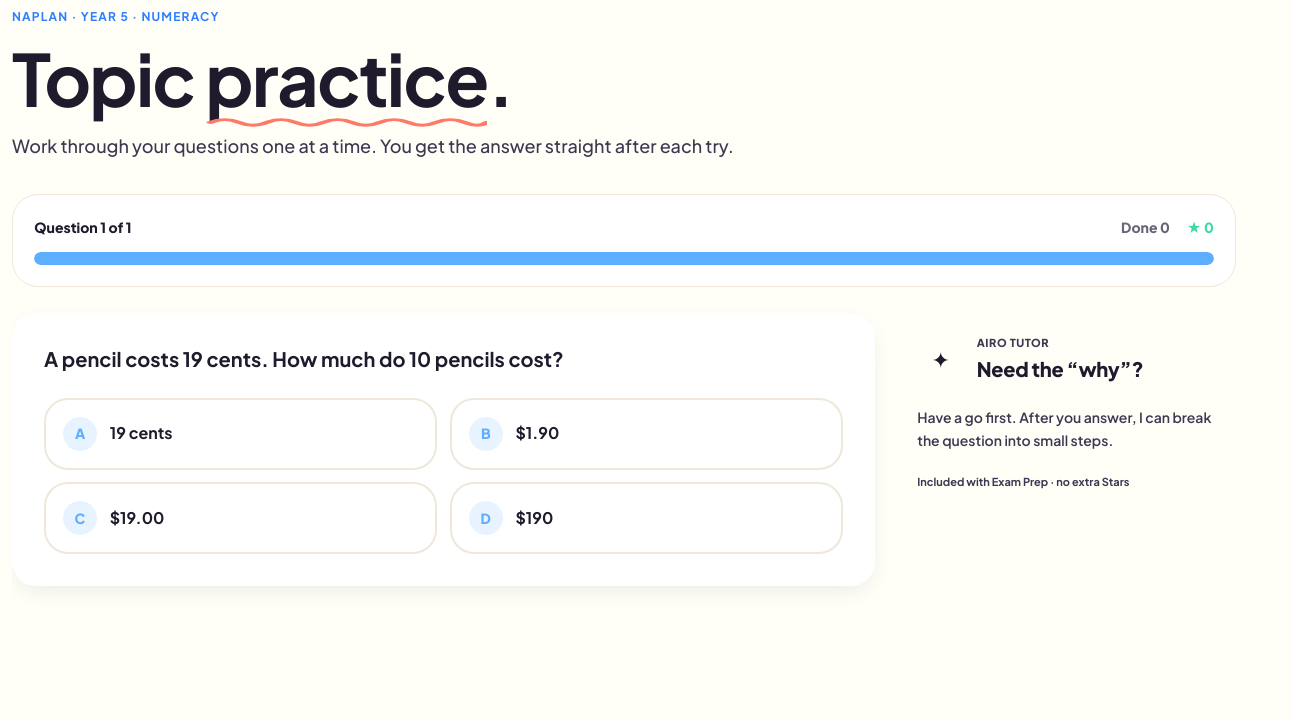
Test: AcademyPracticePage › automatically shows the real Airo Tutor explanation after an attempt
The width and height of the screenshot is (1292, 720).
Check: the element with test id "academy-tutor" shows "Have a go first", box [917,408,1211,449]
Click the button with test id "academy-option-A": (80, 434) [44,398,437,470]
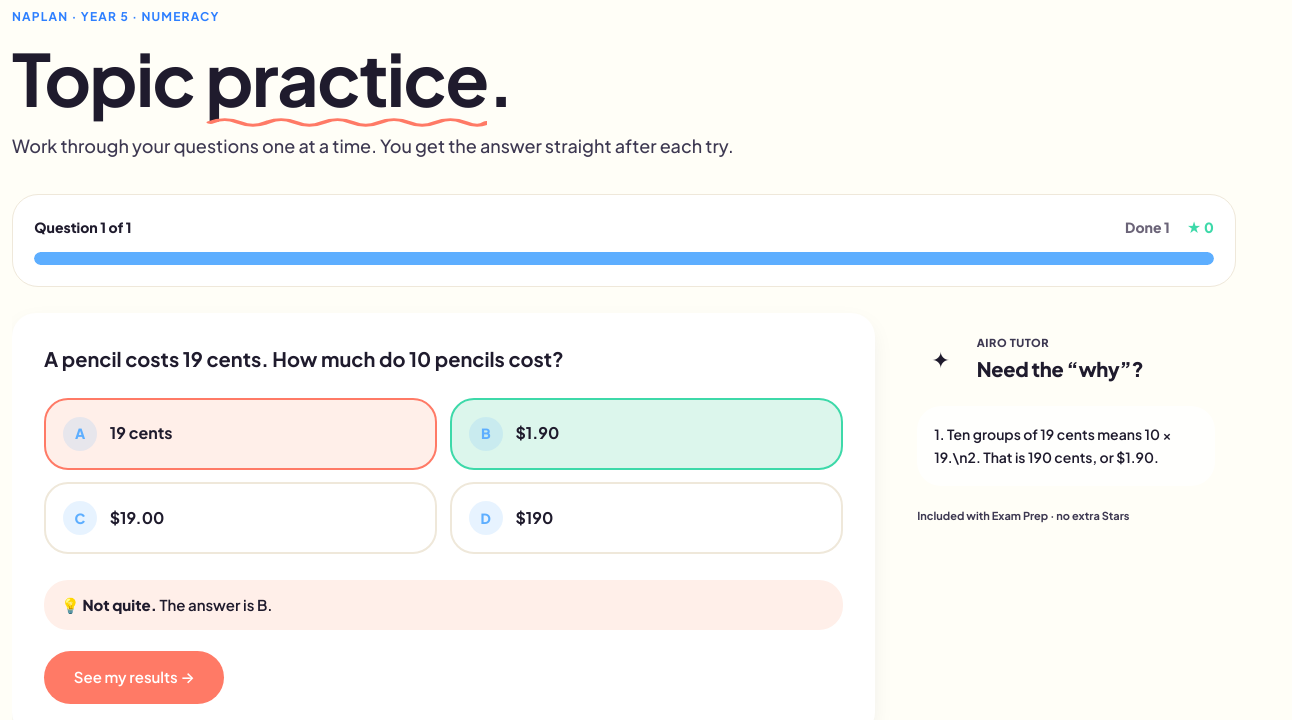
Check: the element with test id "academy-tutor" shows "no extra Stars", box [917,509,1130,522]
Check: the text with test id "academy-tutor-explanation" shows "Ten groups of 19 cents", box [934,425,1172,466]
